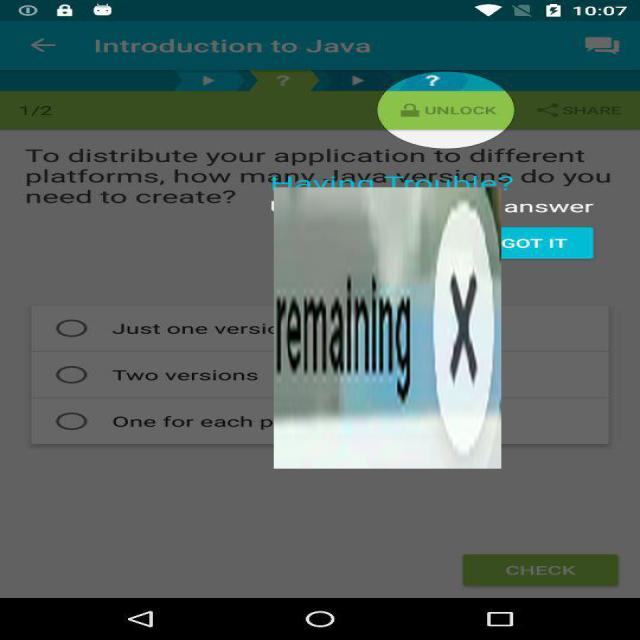misdirection: (274, 187, 501, 469)
